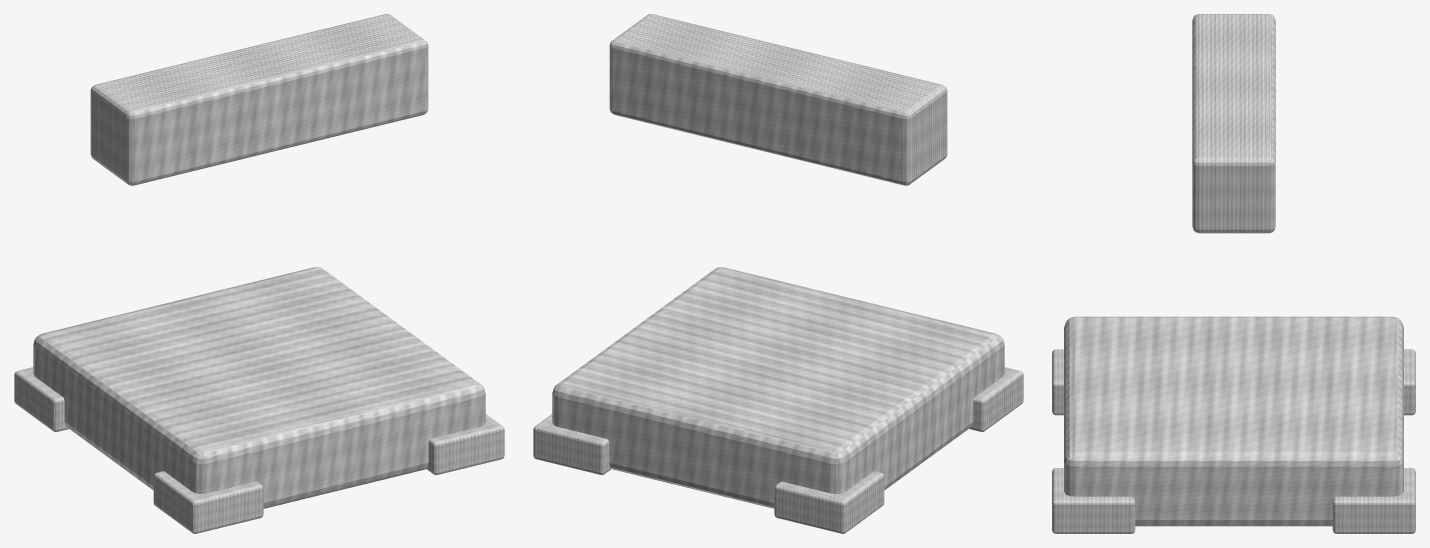
Rendered from beams_variant_d.glb.
The picture shows the model from 3 angles, left to right: view 1: azimuth 30°, elevation 25°; view 2: azimuth 150°, elevation 25°; view 3: azimuth 270°, elevation 25°; orthographic projection.
Visible parts, largest first — view 1: Foundation.003, Structural beam.003, Mounting foot.012, Mounting foot.014, Mounting foot.013; view 2: Foundation.003, Structural beam.003, Mounting foot.013, Mounting foot.015, Mounting foot.012; view 3: Foundation.003, Structural beam.003, Mounting foot.014, Mounting foot.015, Mounting foot.012, Mounting foot.013.
Part boxes in pixels (<box>): Foundation.003: <box>33,267,485,508</box>; Structural beam.003: <box>90,14,428,185</box>; Mounting foot.012: <box>153,471,263,533</box>; Mounting foot.014: <box>426,414,504,475</box>; Mounting foot.013: <box>14,367,68,431</box>; Foundation.003: <box>552,267,1004,508</box>; Structural beam.003: <box>609,14,947,185</box>; Mounting foot.013: <box>774,471,884,533</box>; Mounting foot.015: <box>533,414,611,475</box>; Mounting foot.012: <box>969,367,1023,431</box>; Foundation.003: <box>1064,316,1403,526</box>; Structural beam.003: <box>1192,14,1275,233</box>; Mounting foot.014: <box>1052,468,1135,533</box>; Mounting foot.015: <box>1332,468,1415,533</box>; Mounting foot.012: <box>1052,349,1063,415</box>; Mounting foot.013: <box>1404,349,1415,415</box>.
Size of what is drawn, in the model's own units: 1.97 by 2.22 by 1.97.
2 materials, 2 textured.
